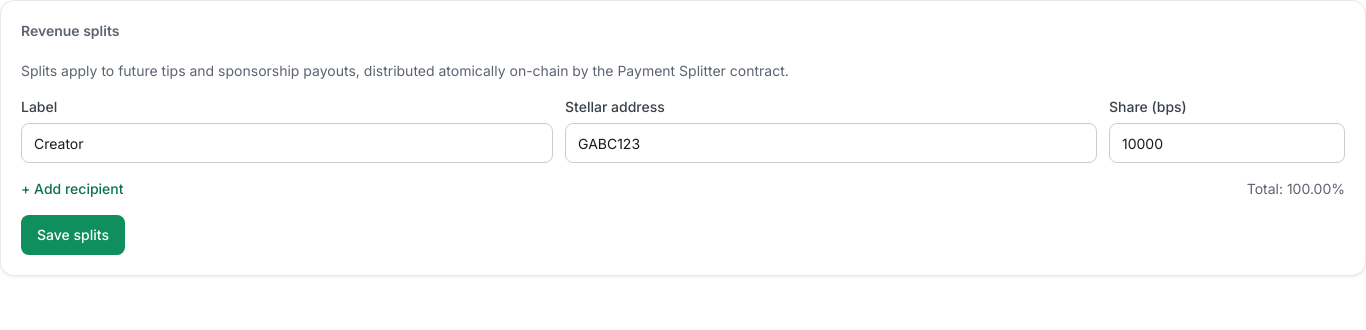
Scenario: SplitConfigForm › shows a generic error when saving fails
Click the button "Save splits".
click(73, 235)  # box [21,215,125,255]
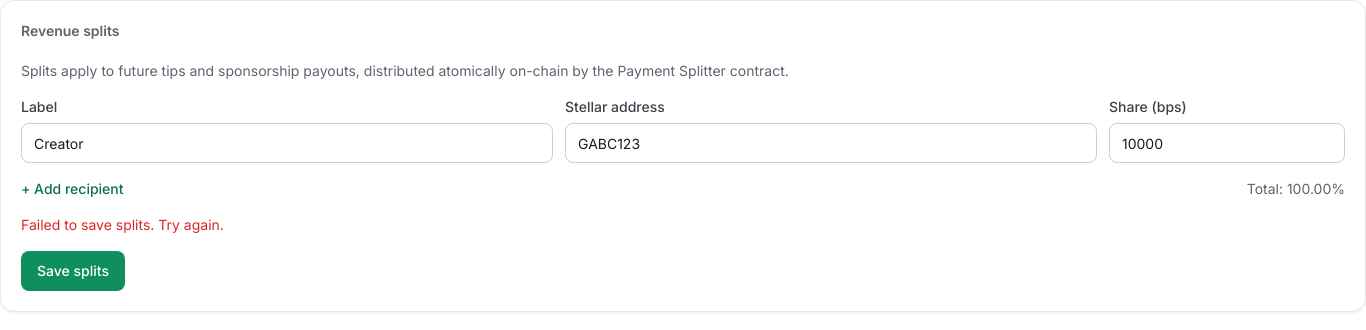
Now the text "Failed to save splits. Try again." is shown, box [21,216,224,233]
